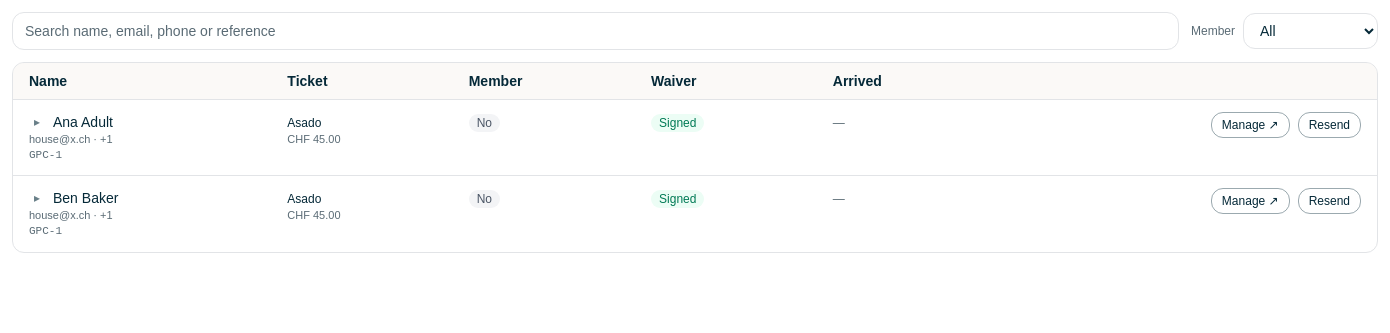
Test: household expander › reveals the other people on the address, collapsed by default
// Expand Ana's row → Ben is named as her housemate.
Click the button with test id "household-toggle" next to "Ana Adult": (37, 122) [29,114,45,130]
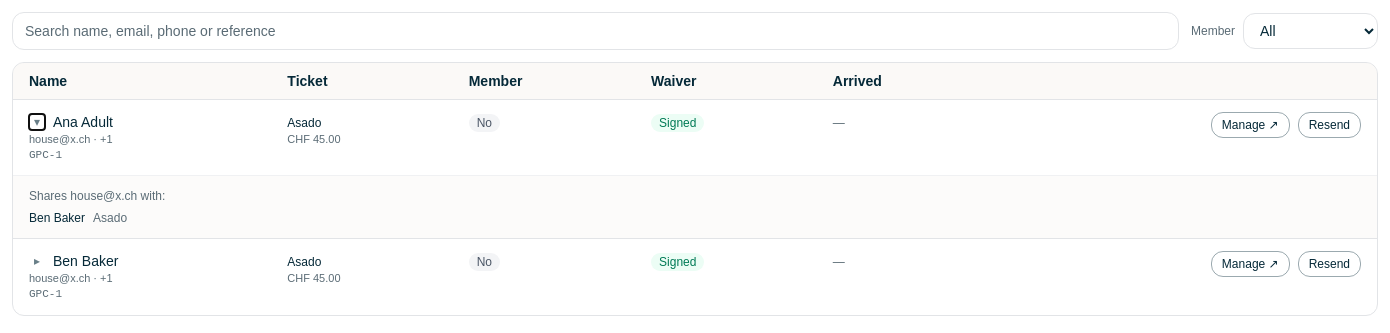
Result: the text "Ben Baker" below "Shares" is shown at [29,211,85,225]
